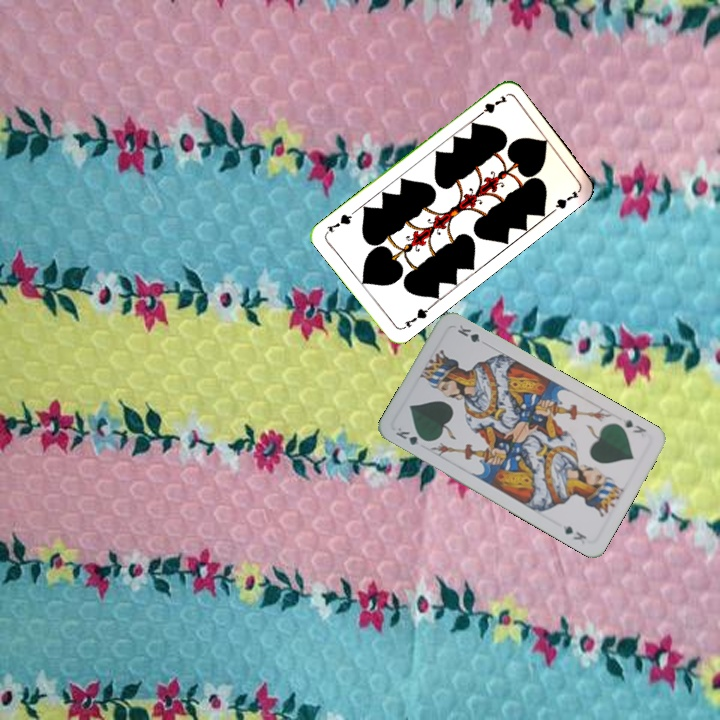G7: (472, 91, 510, 121), (398, 303, 433, 332)
GK: (391, 423, 431, 449), (618, 416, 649, 436)
